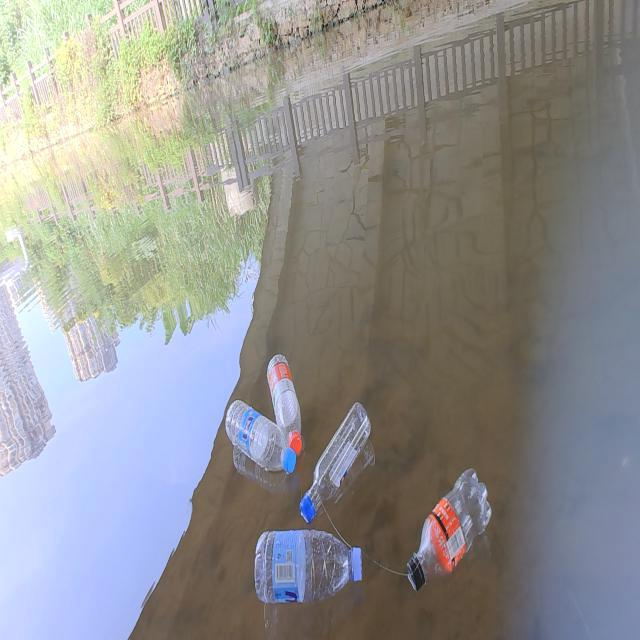bottle: (398, 463, 494, 600), (293, 396, 390, 524), (241, 529, 371, 611), (211, 398, 300, 476), (264, 330, 304, 454)
